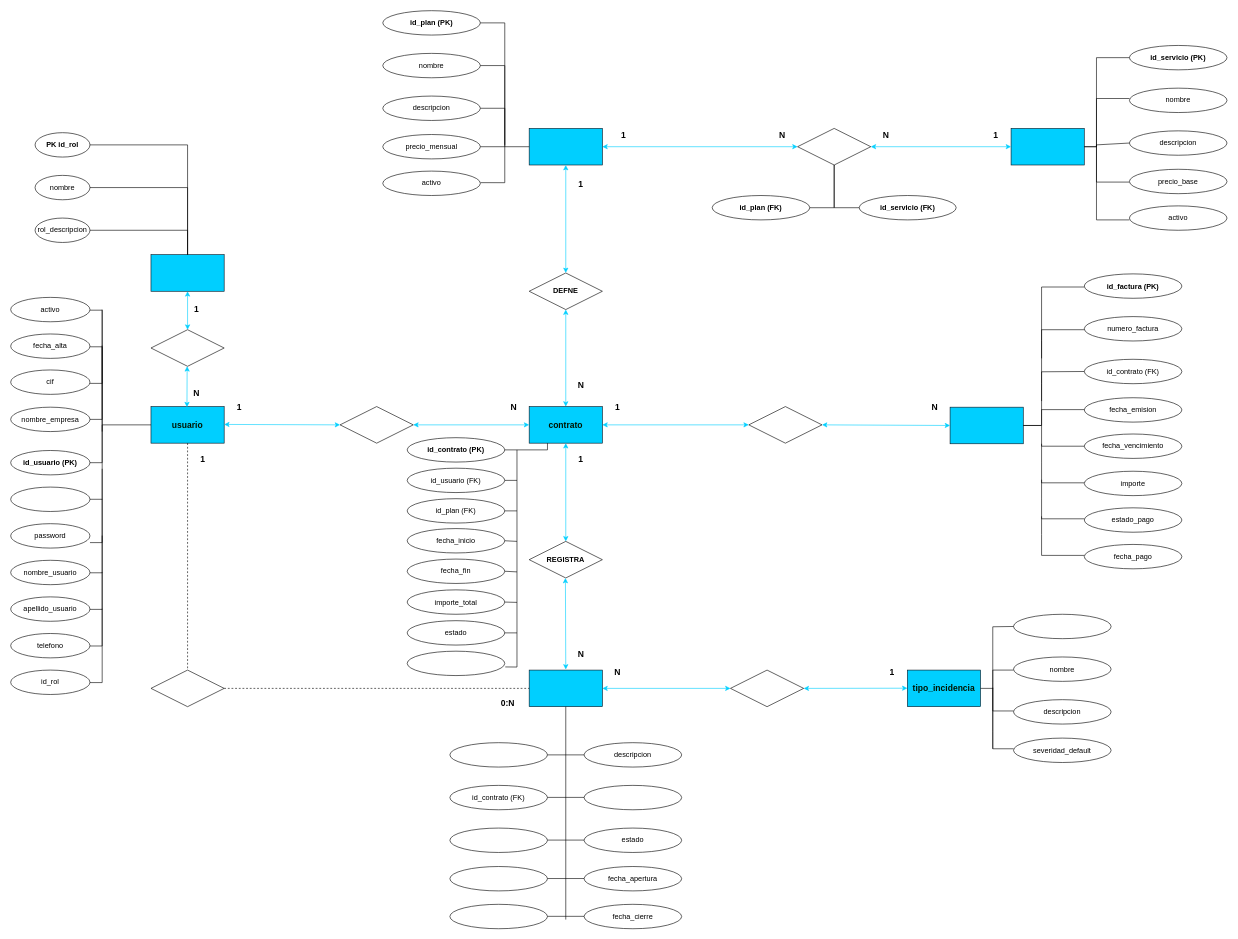
Image size: 1238x939. Some labels were removed from this diagram. The shapes that lost their labels are listed below. From the top down, each one's centre as x and y in pixels, then its label:
At (565,146): "plan".
At (834,146): "INCLUYE".
At (1047,146): "servicio".
At (187,272): "rol".
At (187,347): "AGRUPA".
At (376,424): "FIRMA".
At (785,424): "GENERA".
At (986,425): "factura".
At (50,498): "email".
At (1062,626): "id_tipo (PK)".
At (456,663): "fecha_creacion".
At (187,688): "ATIENDE".
At (565,688): "incidencia".
At (767,688): "CLASIFICA".
At (498,754): "id_incidencia (PK)".
At (632,797): "severidad".
At (498,839): "id_tipo (FK)".
At (498,878): "id_admin_asignado (FK)".
At (498,916): "titulo".
